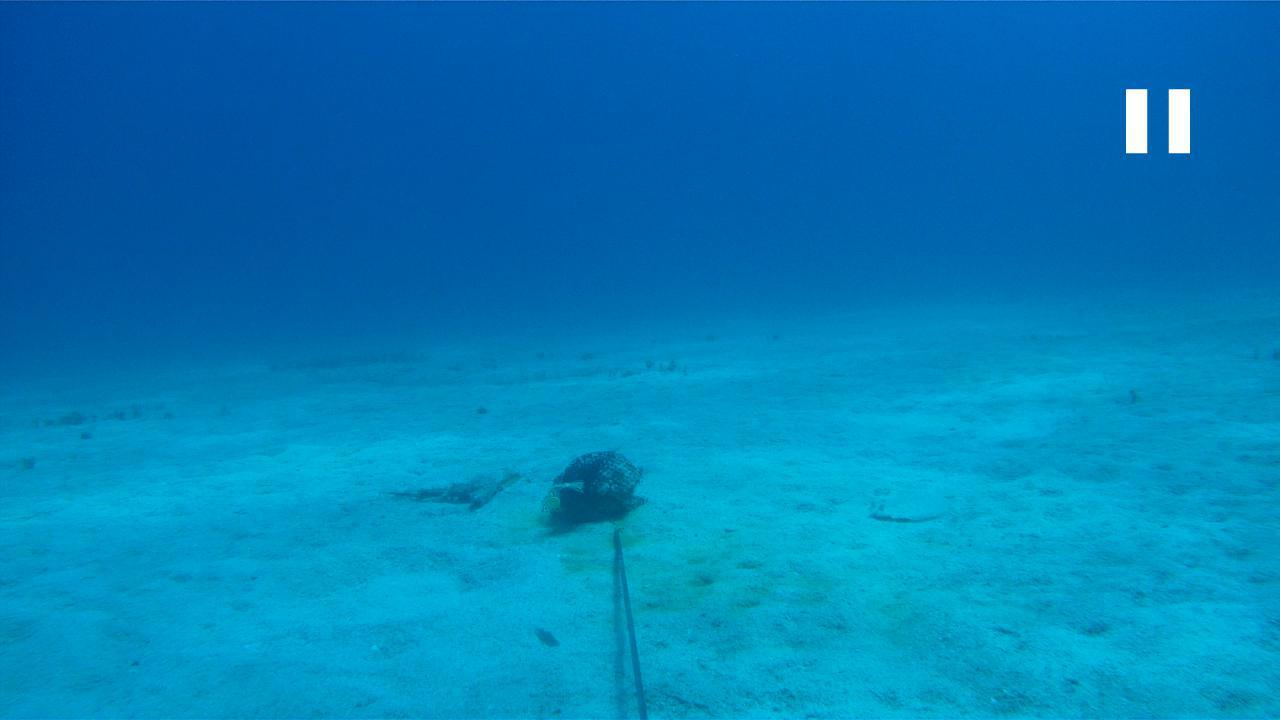bothus: (866, 488, 949, 522)
